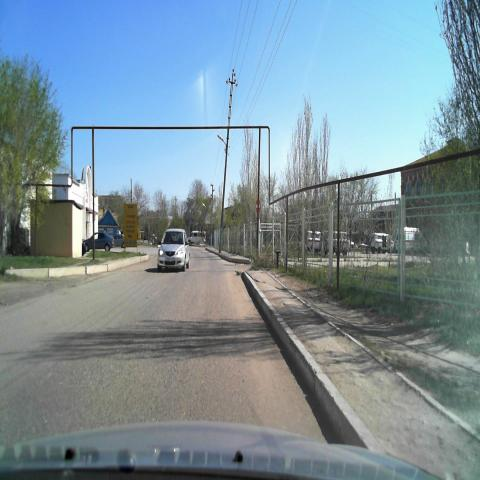3_1: (254, 198, 262, 215)
